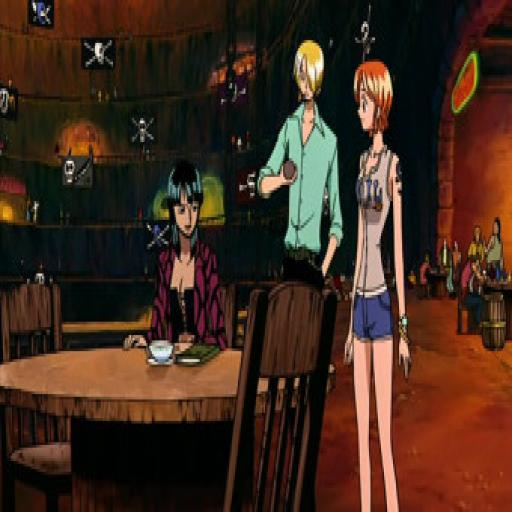Nami: (346, 51, 399, 148)
NicoRobin: (161, 150, 212, 251)
sanji: (289, 40, 329, 112)
